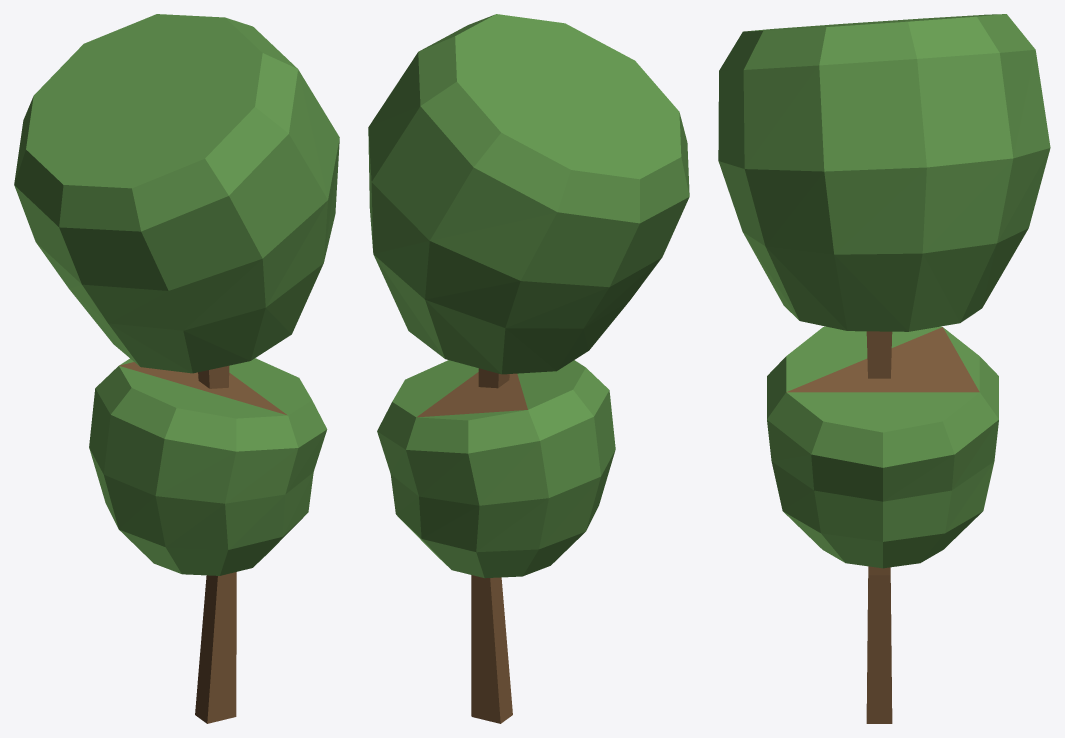
The model's file is tree3d-019.glb.
The picture shows the model from 3 angles, left to right: view 1: azimuth 30°, elevation 25°; view 2: azimuth 150°, elevation 25°; view 3: azimuth 270°, elevation 25°; orthographic projection. The views are drawn at different scales.
Parts seen in each view (by area): view 1: tree3d-019; view 2: tree3d-019; view 3: tree3d-019.
Part boxes in pixels (x1,y1,x2,y2): tree3d-019: (14, 14, 339, 723); tree3d-019: (368, 14, 689, 723); tree3d-019: (718, 14, 1050, 723).
Size of the model in its own units: 0.4263 by 1 by 0.4259.
